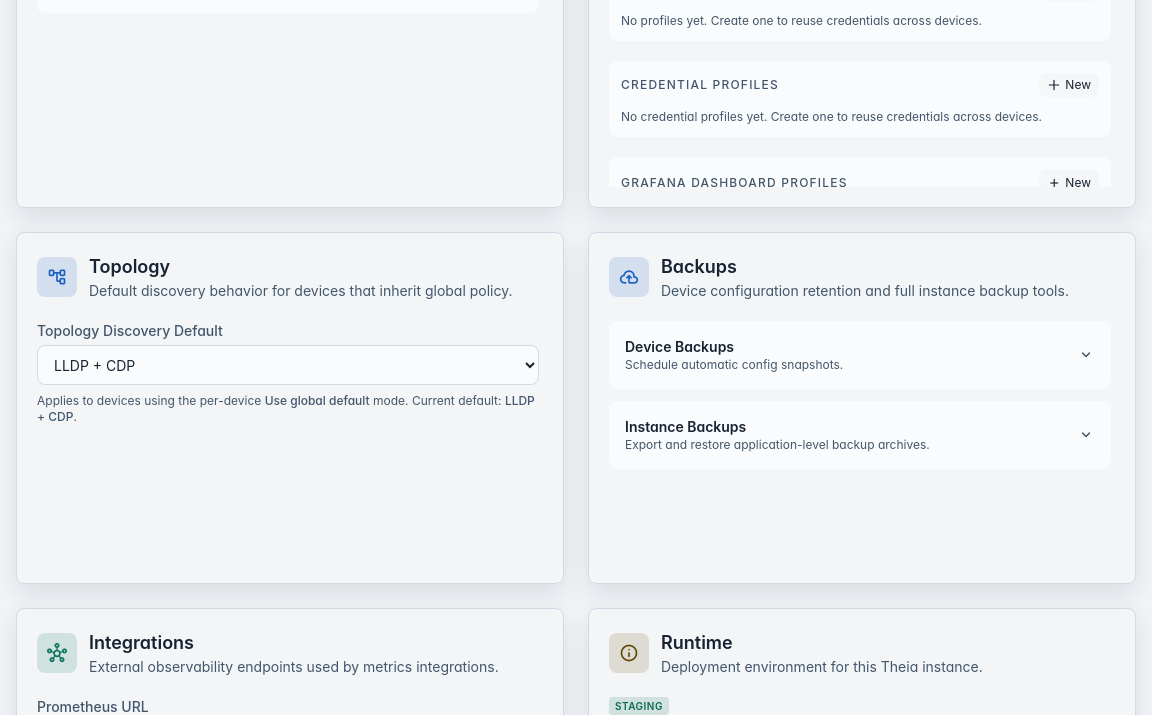
Test: SettingsPanel — Device Backups collapsible section (Gap 2) › clicking the Device Backups button reveals the section content
The image size is (1152, 715).
(page scrolled)
expect the text "Automatic Backup Schedule" is not shown: met
// Click the "Device Backups" toggle button
Click the button "Device Backups Schedule automatic config snapshots." at (680, 346), box x1=621 y1=333 x2=1099 y2=377
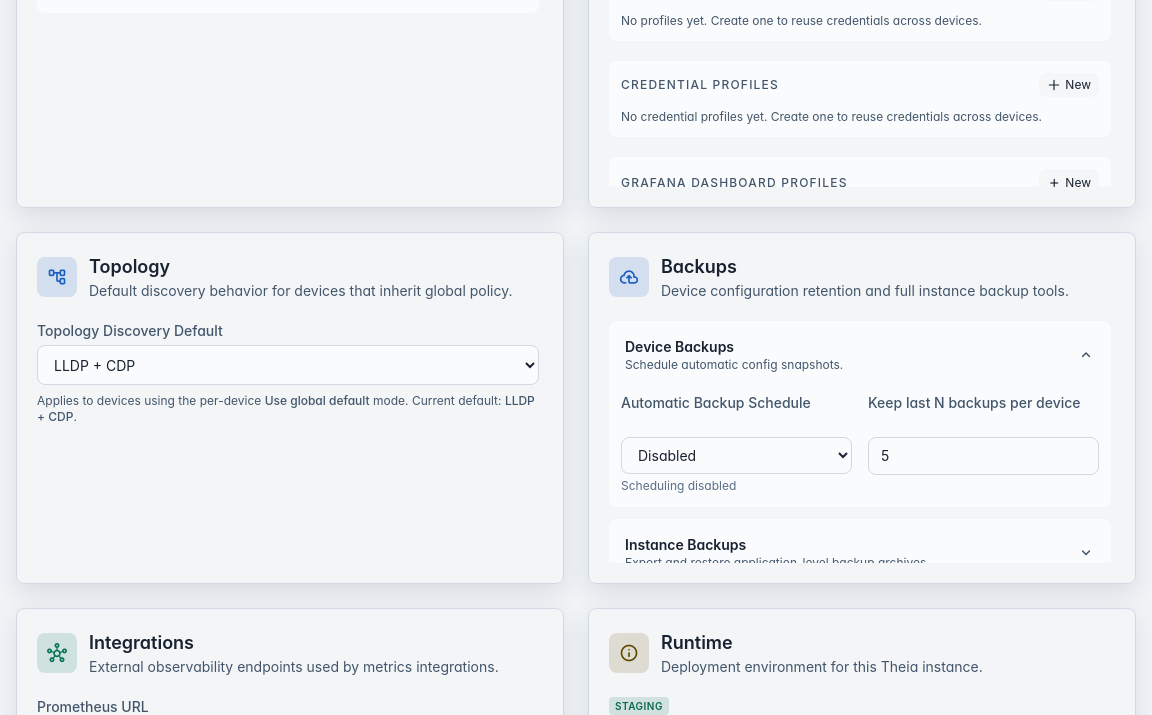
expect the text "Automatic Backup Schedule" is shown: met, box x1=621 y1=393 x2=811 y2=413
